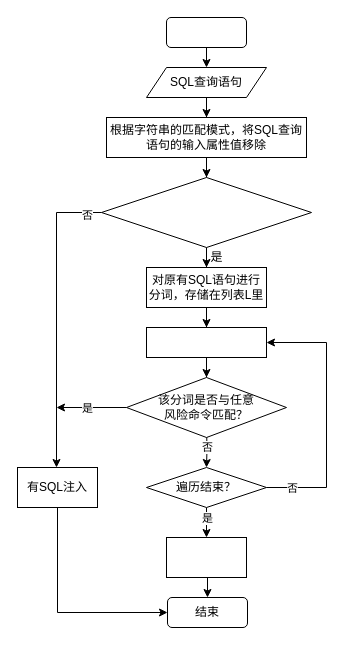
This 352x645 diagram has some shape labels left out. Each missing label, with the centre of its shape:
开始: the point at 206,32
无SQL注入: the point at 206,557
移除后的语句是否与不含参 数值的查询语句结构相同？: the point at 206,212
遍历分词列表L: the point at 206,342
